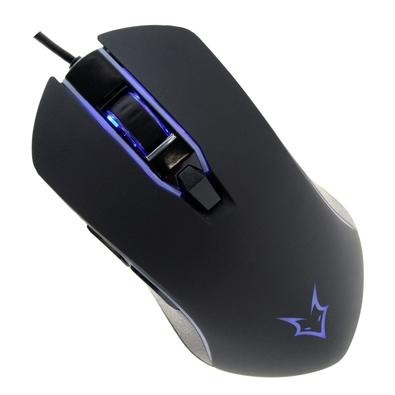mouse: (16, 20, 371, 384)
